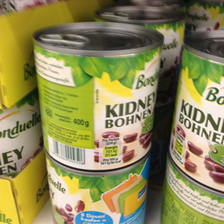beans: (30, 21, 160, 165), (169, 26, 224, 192)
